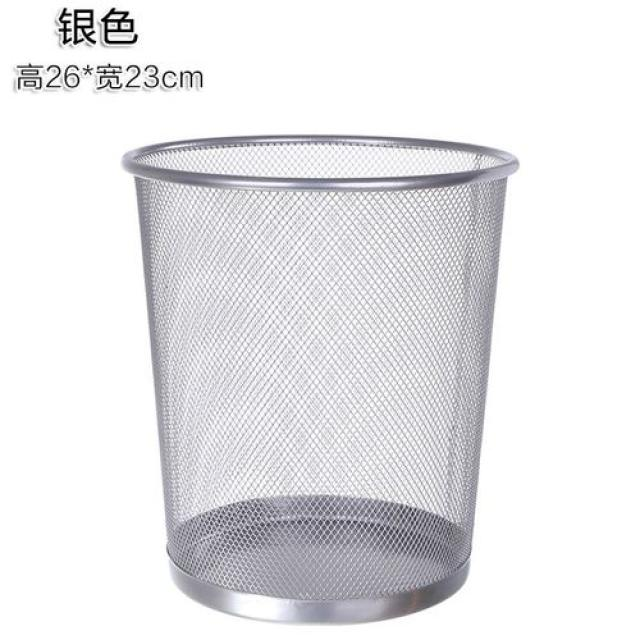dustbin: (113, 123, 523, 633)
